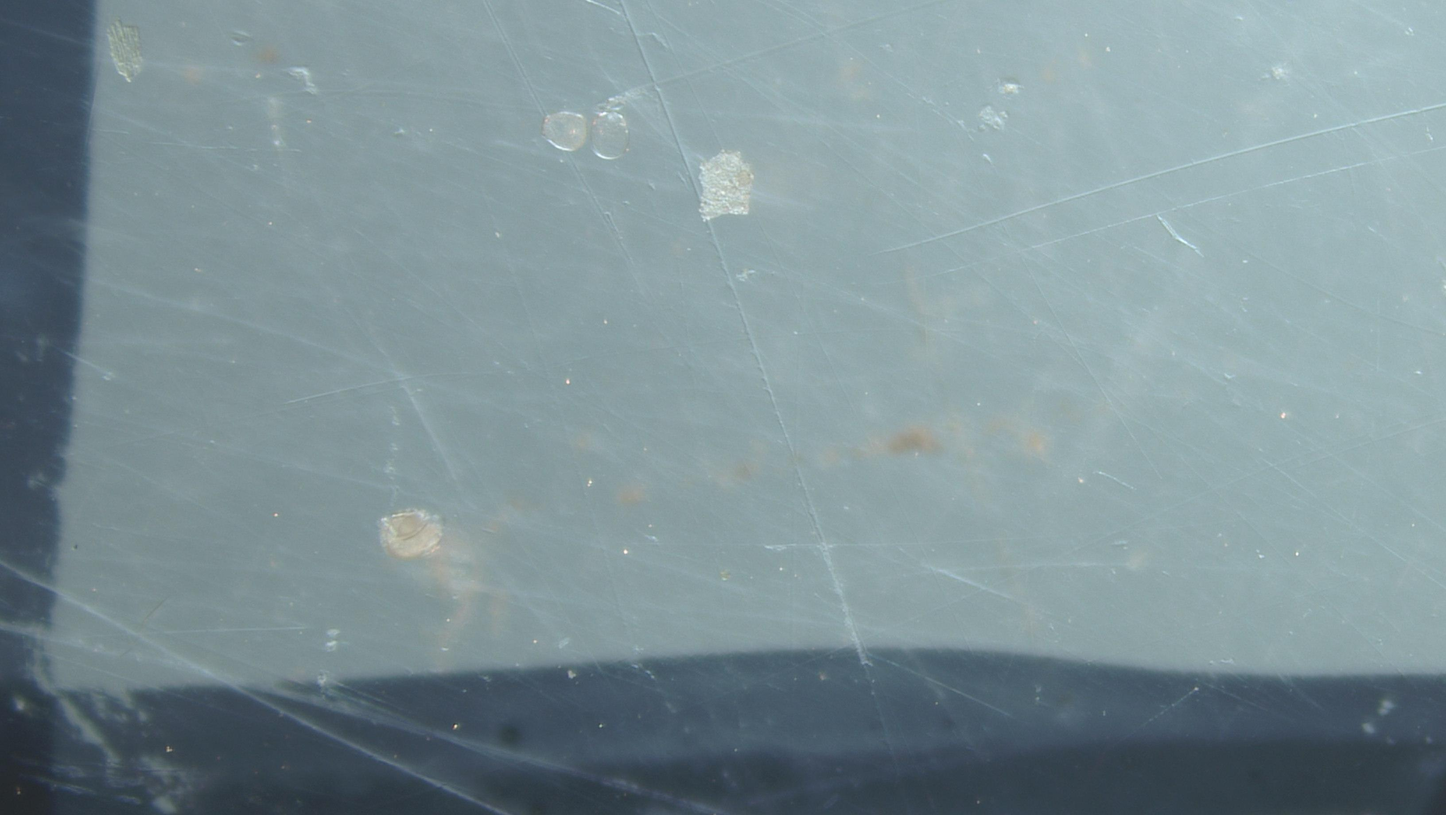dead: (590, 109, 630, 159), (543, 111, 589, 152)
